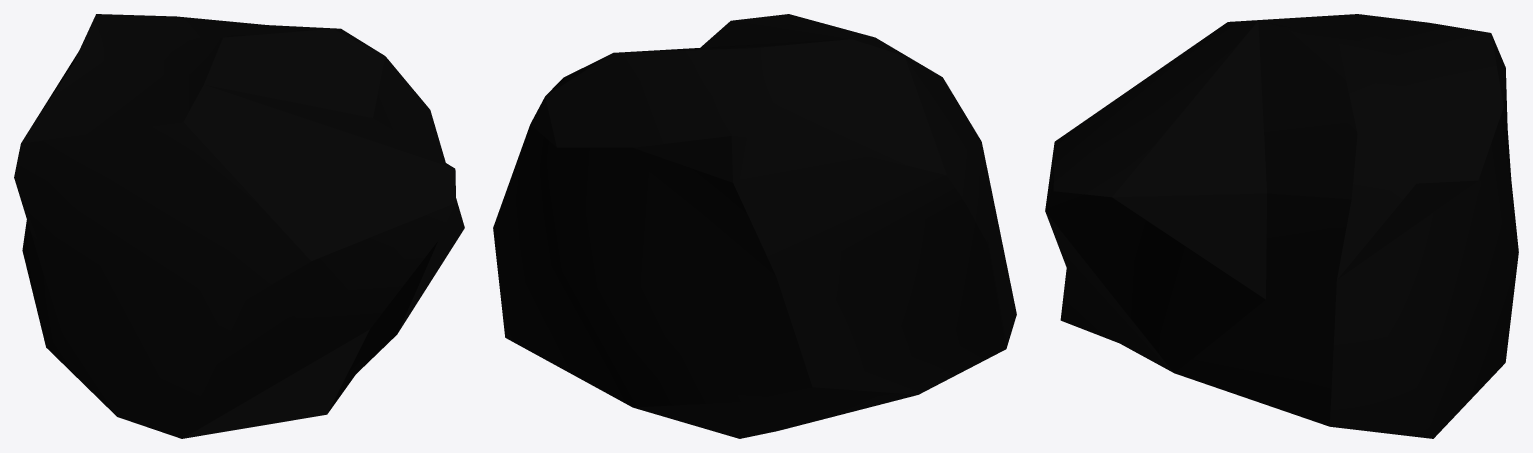
Rendered from Stone_1a.fbx.
3 renders of one model, left to right at view 1: azimuth 30°, elevation 25°; view 2: azimuth 150°, elevation 25°; view 3: azimuth 270°, elevation 25°, orthographic. The views are drawn at different scales.
Visible parts, largest first — view 1: Stone_1a; view 2: Stone_1a; view 3: Stone_1a.
Part boxes in pixels (left/top/right/bottom): Stone_1a: left=14, top=14, right=464, bottom=438; Stone_1a: left=493, top=14, right=1016, bottom=438; Stone_1a: left=1045, top=14, right=1518, bottom=438.
Bounding box in the file's own units: 15.3 × 11.59 × 13.39.
1 material, 1 textured.
